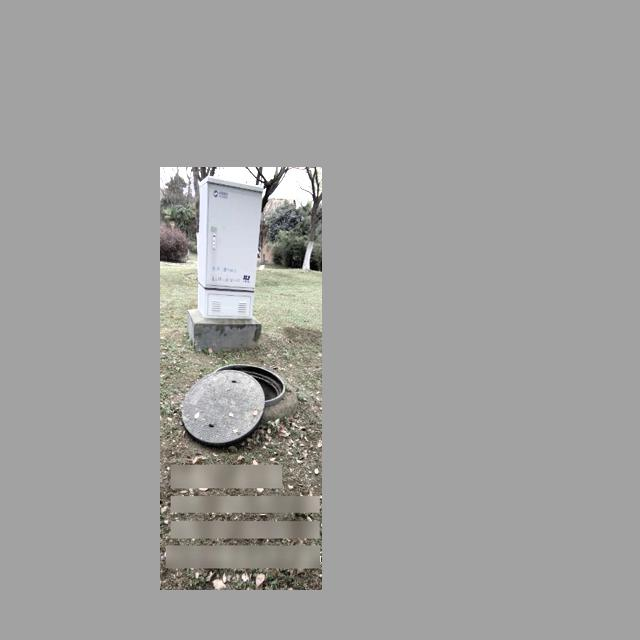uncovered: (181, 362, 286, 442)
